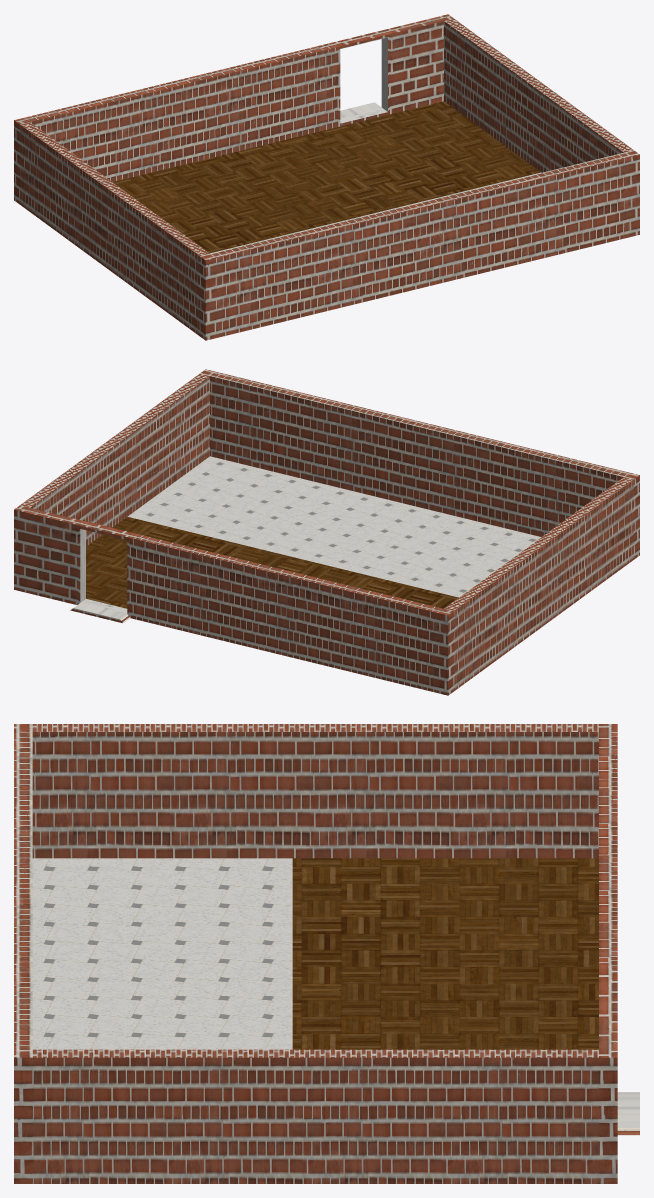
File: shop-model.glb
3 views of the same model, one above another, from view 1: azimuth 30°, elevation 25°; view 2: azimuth 150°, elevation 25°; view 3: azimuth 270°, elevation 25° (orthographic). The views are drawn at different scales.
Visible parts, largest first — view 1: Walls-Outer, Floor; view 2: Walls-Outer, Floor; view 3: Walls-Outer, Floor.
Boxes of the visible parts, left/top/right/bottom form: Walls-Outer: left=14, top=14, right=639, bottom=340; Floor: left=112, top=101, right=541, bottom=253; Walls-Outer: left=14, top=369, right=639, bottom=695; Floor: left=86, top=456, right=541, bottom=608; Walls-Outer: left=14, top=724, right=639, bottom=1183; Floor: left=32, top=858, right=598, bottom=1049.
Size of what is drawn, in the model's own units: 17 by 3 by 13.48.
Materials: 3 (3 with a texture image).
